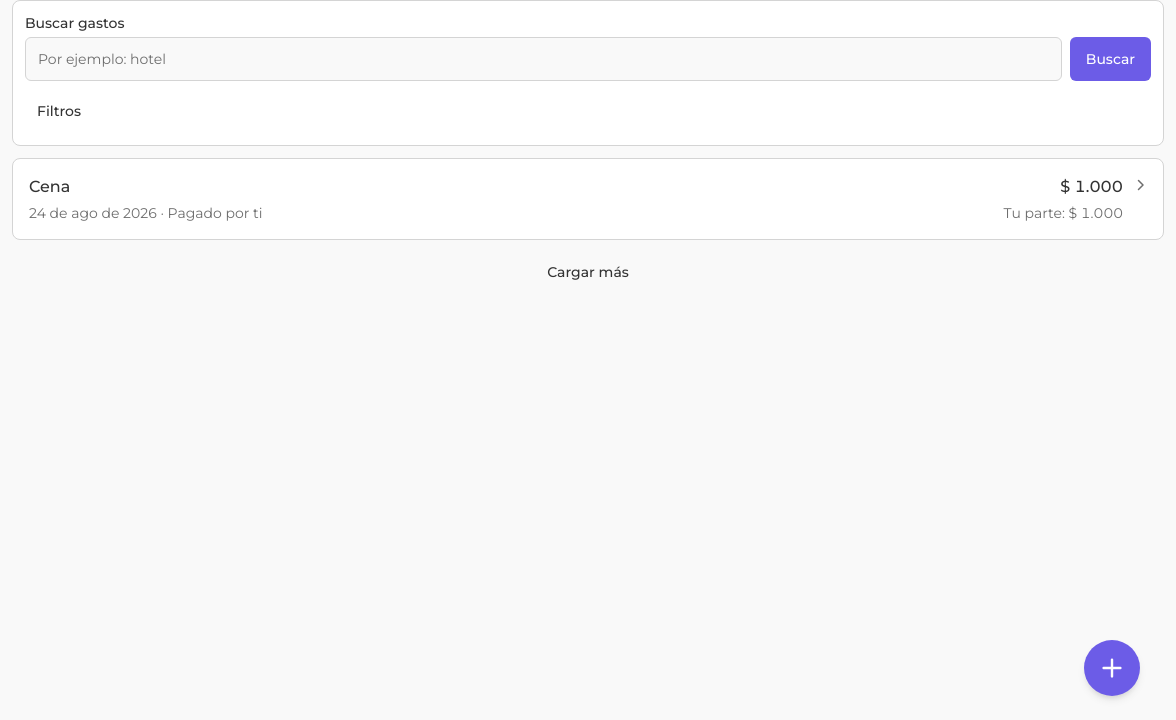
ExpenseFeed › appends the next page without duplicating existing rows
Click the button "Cargar más".
click(588, 272)  # box [12,252,1164,292]
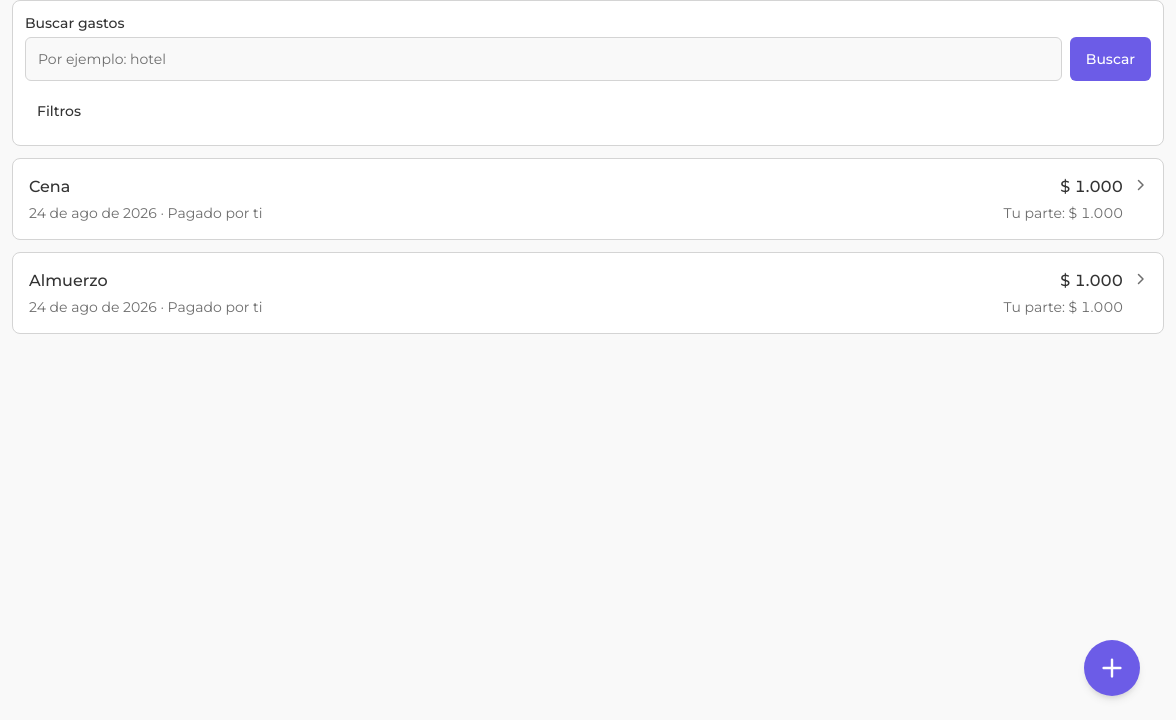
Check: the text "Cena" is shown, box [29,175,70,199]
Check: the text "Almuerzo" is shown, box [29,269,108,293]
Check: the button "Cargar más" is gone
